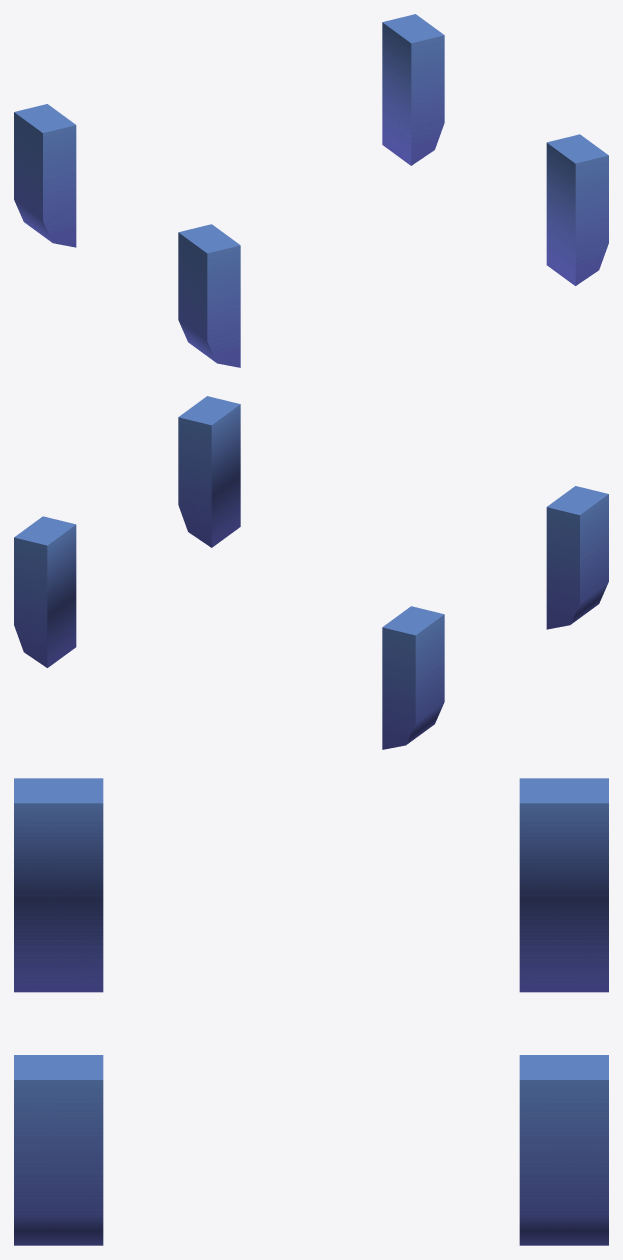
Rendered from supports-clamp.glb.
The picture shows the model from 3 angles, top to bottom: view 1: azimuth 30°, elevation 25°; view 2: azimuth 150°, elevation 25°; view 3: azimuth 270°, elevation 25°; orthographic projection. The views are drawn at different scales.
Parts seen in each view (by area): view 1: supports-clamp; view 2: supports-clamp; view 3: supports-clamp.
Boxes of the visible parts, x1,y1,x2,y2 form: supports-clamp: (14, 14, 608, 367); supports-clamp: (14, 396, 608, 749); supports-clamp: (14, 778, 608, 1245).
Bounding box in the file's own units: 3.6 × 1.05 × 3.
Materials: 1 (1 with a texture image).
